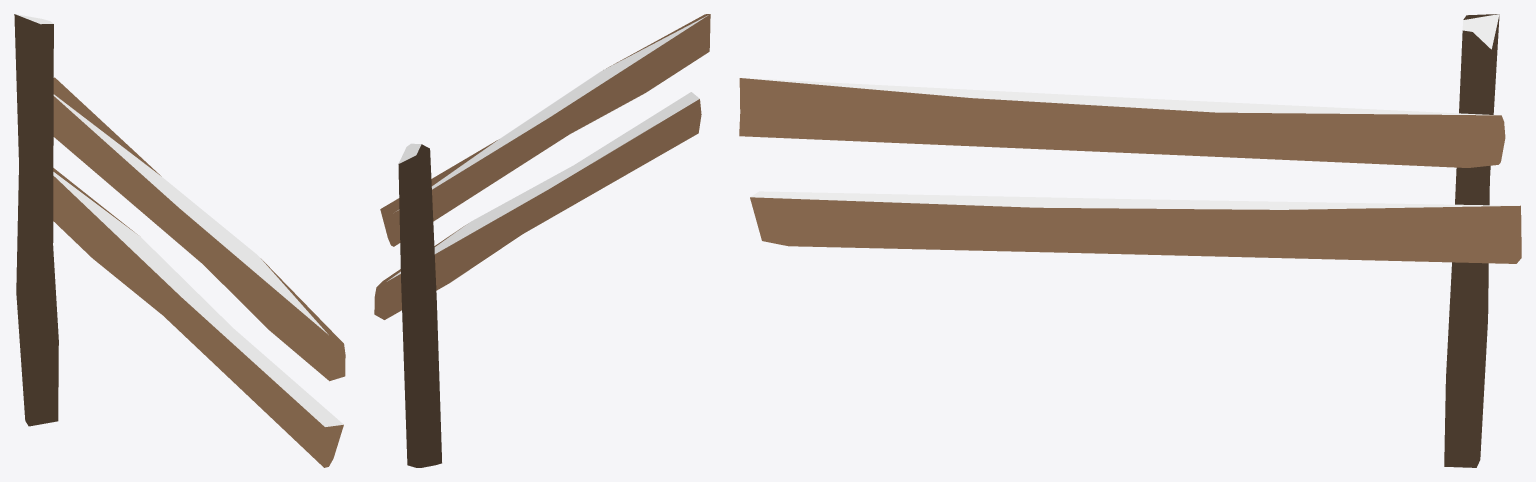
Rendered from fence_snowy_02.dae.
3 views of the same model, side by side, from view 1: azimuth 30°, elevation 25°; view 2: azimuth 150°, elevation 25°; view 3: azimuth 270°, elevation 25° (orthographic). The views are drawn at different scales.
Visible parts, largest first — view 1: fence_snowy_02-0; view 2: fence_snowy_02-0; view 3: fence_snowy_02-0.
Boxes of the visible parts, <box> form: fence_snowy_02-0: <box>14,14,345,467</box>; fence_snowy_02-0: <box>374,14,710,467</box>; fence_snowy_02-0: <box>739,14,1521,467</box>.
Bounding box in the file's own units: 0.5481 × 3.03 × 4.86.
